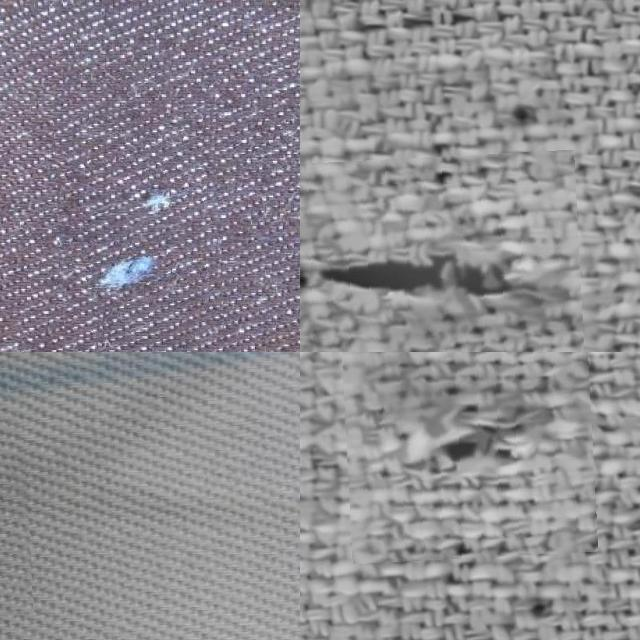other: (300, 154, 583, 352), (341, 352, 593, 560)
stains: (54, 107, 220, 337)
